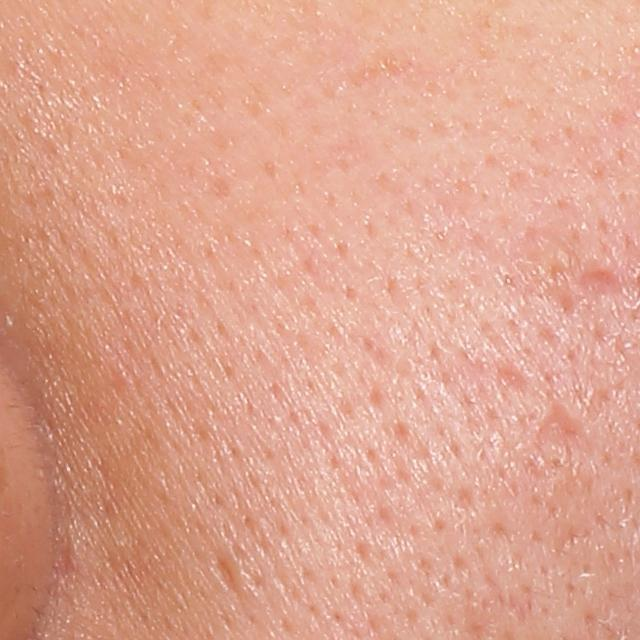atrophic_scar: (533, 400, 590, 466), (495, 365, 532, 400), (213, 554, 240, 600), (581, 266, 621, 295)
